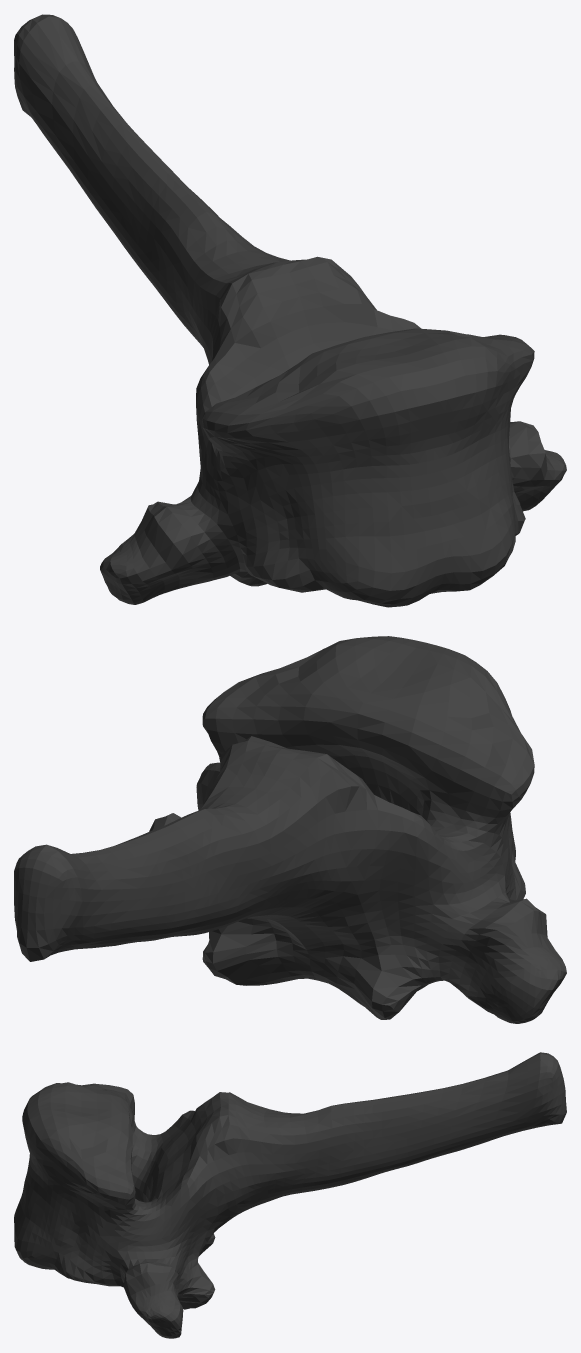
3 renders of one model, top to bottom at view 1: azimuth 30°, elevation 25°; view 2: azimuth 150°, elevation 25°; view 3: azimuth 270°, elevation 25°, orthographic. The views are drawn at different scales.
Parts seen in each view (by area): view 1: B_T3; view 2: B_T3; view 3: B_T3.
Part boxes in pixels (box(x1,y1,x2,y2)): B_T3: box(14, 14, 566, 607); B_T3: box(14, 636, 566, 1023); B_T3: box(14, 1052, 566, 1338).
Size of the model in its own units: 0.00272 by 0.00202 by 0.00432.
Materials: 1 (1 with a texture image).
